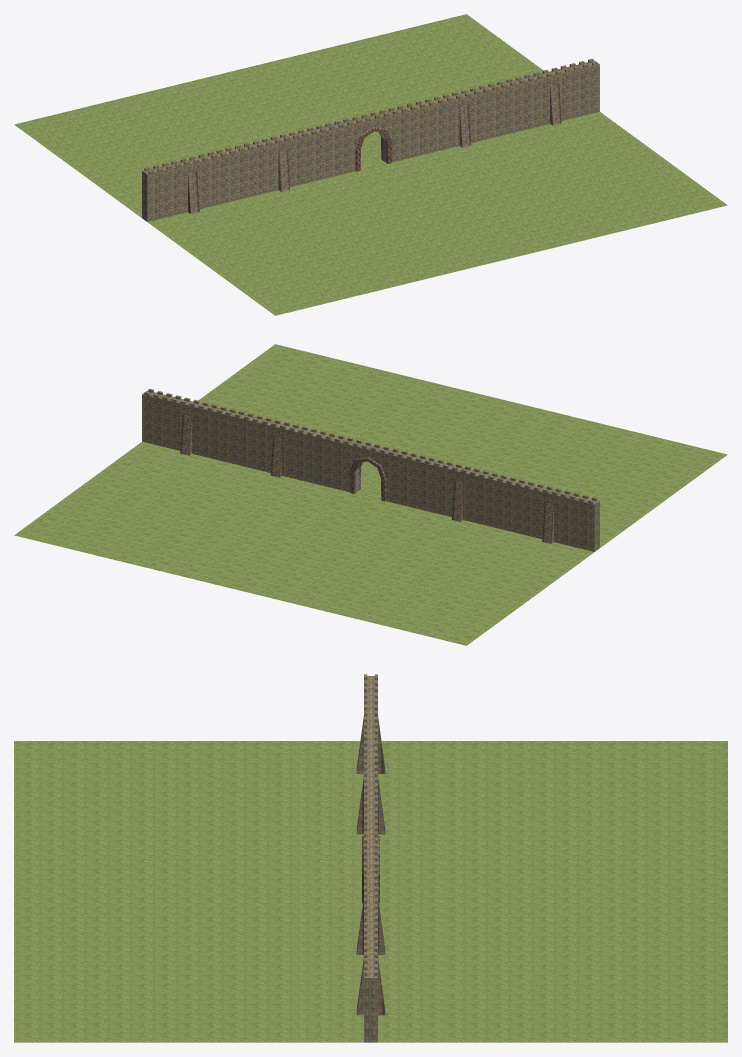
Rendered from map50GBGEW.fbx.
3 views of the same model, one above another, from view 1: azimuth 30°, elevation 25°; view 2: azimuth 150°, elevation 25°; view 3: azimuth 270°, elevation 25° (orthographic). The views are drawn at different scales.
Visible parts, largest first — view 1: map50GBGEW_Layer1, map50GBGEW_Layer2, map50GBGEW_Layer3, map50GBGEW_Layer5, map50GBGEW_Layer18; view 2: map50GBGEW_Layer1, map50GBGEW_Layer2, map50GBGEW_Layer3, map50GBGEW_Layer5, map50GBGEW_Layer15; view 3: map50GBGEW_Layer1, map50GBGEW_Layer2, map50GBGEW_Layer3, map50GBGEW_Layer5.
Part boxes in pixels (<box>): map50GBGEW_Layer1: <box>14,14,727,315</box>; map50GBGEW_Layer2: <box>142,60,599,221</box>; map50GBGEW_Layer3: <box>144,58,597,173</box>; map50GBGEW_Layer5: <box>188,84,561,213</box>; map50GBGEW_Layer18: <box>355,127,391,171</box>; map50GBGEW_Layer1: <box>14,344,727,645</box>; map50GBGEW_Layer2: <box>142,390,599,551</box>; map50GBGEW_Layer3: <box>144,388,597,503</box>; map50GBGEW_Layer5: <box>180,414,553,543</box>; map50GBGEW_Layer15: <box>350,457,386,501</box>; map50GBGEW_Layer1: <box>14,741,727,1042</box>; map50GBGEW_Layer2: <box>364,676,377,1042</box>; map50GBGEW_Layer3: <box>364,674,377,976</box>; map50GBGEW_Layer5: <box>356,716,385,1015</box>.
Bounding box in the file's own units: 1 × 0.105 × 1.
